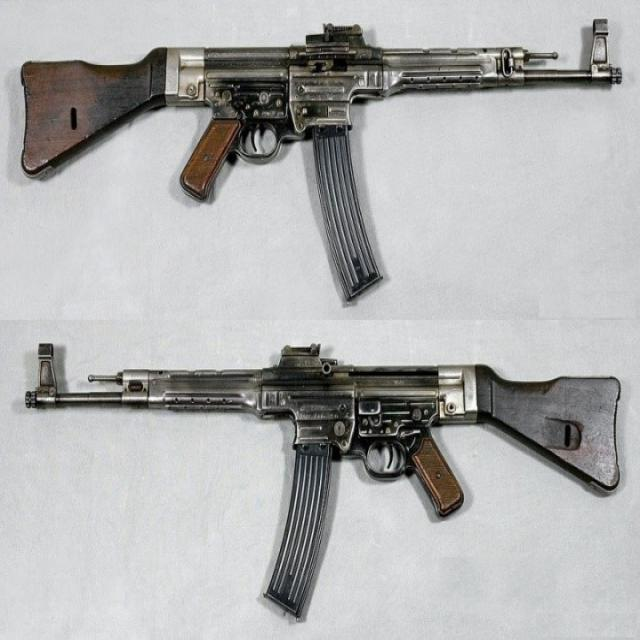ak: (16, 12, 624, 305), (22, 330, 626, 622)
